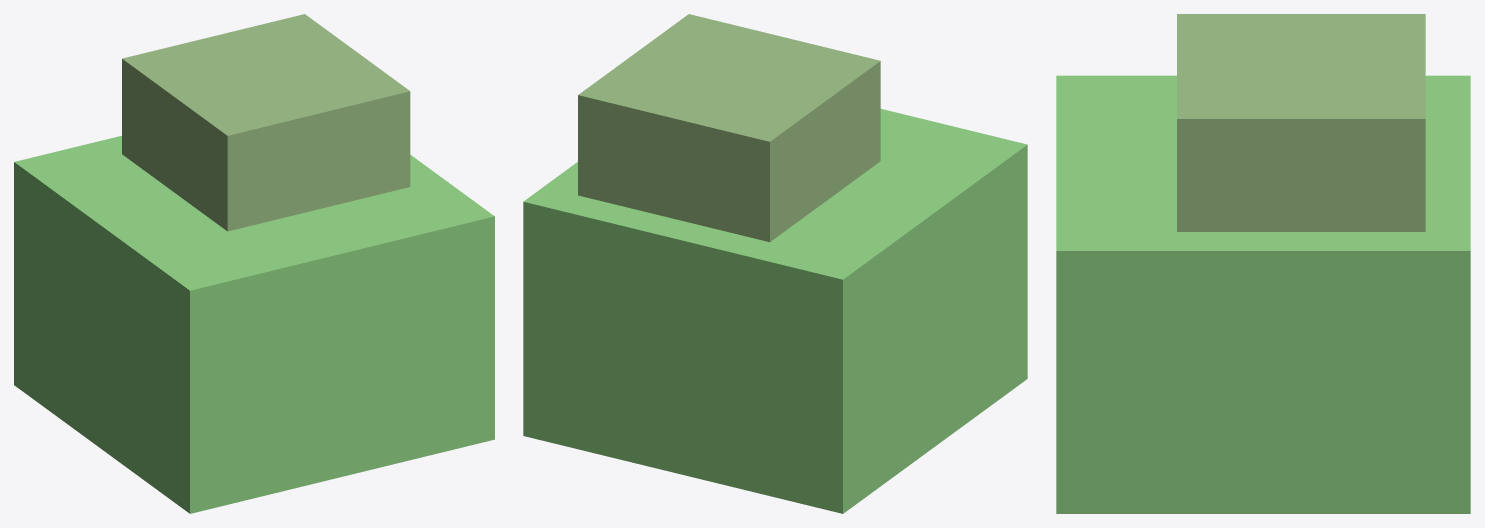
The model's file is Prop_Dress_AMF_Bush_V9.glb.
3 views of the same model, side by side, from view 1: azimuth 30°, elevation 25°; view 2: azimuth 150°, elevation 25°; view 3: azimuth 270°, elevation 25° (orthographic). The views are drawn at different scales.
Parts seen in each view (by area): view 1: Prop_Dress_AMF_Bush_V9; view 2: Prop_Dress_AMF_Bush_V9; view 3: Prop_Dress_AMF_Bush_V9.
Part boxes in pixels (left/top/right/bottom): Prop_Dress_AMF_Bush_V9: left=14, top=14, right=494, bottom=513; Prop_Dress_AMF_Bush_V9: left=523, top=14, right=1027, bottom=513; Prop_Dress_AMF_Bush_V9: left=1056, top=14, right=1470, bottom=513.
Bounding box in the file's own units: 1.09 × 1.09 × 1.09.
